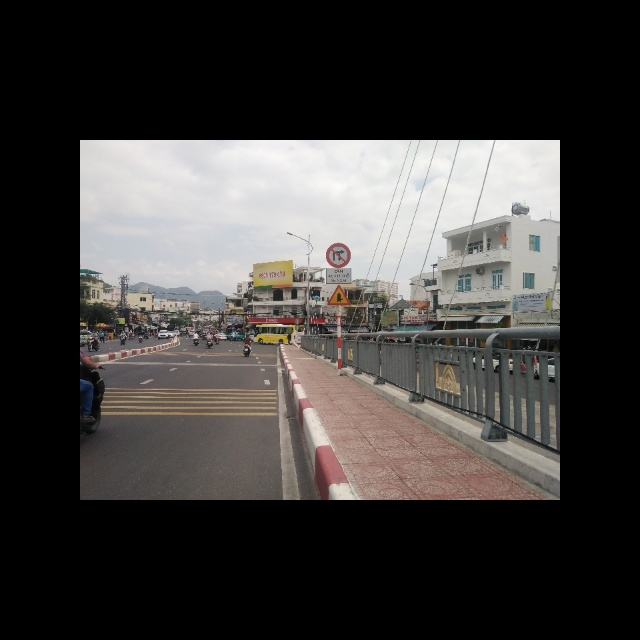Cấm quay đầu và rẽ phải: (325, 242, 351, 268)
Giao nhau với đường không ưu tiên: (327, 285, 350, 306)
